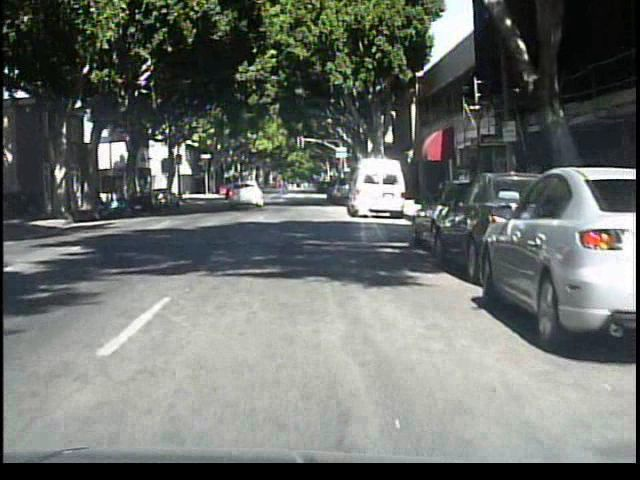person: (272, 166, 292, 199)
